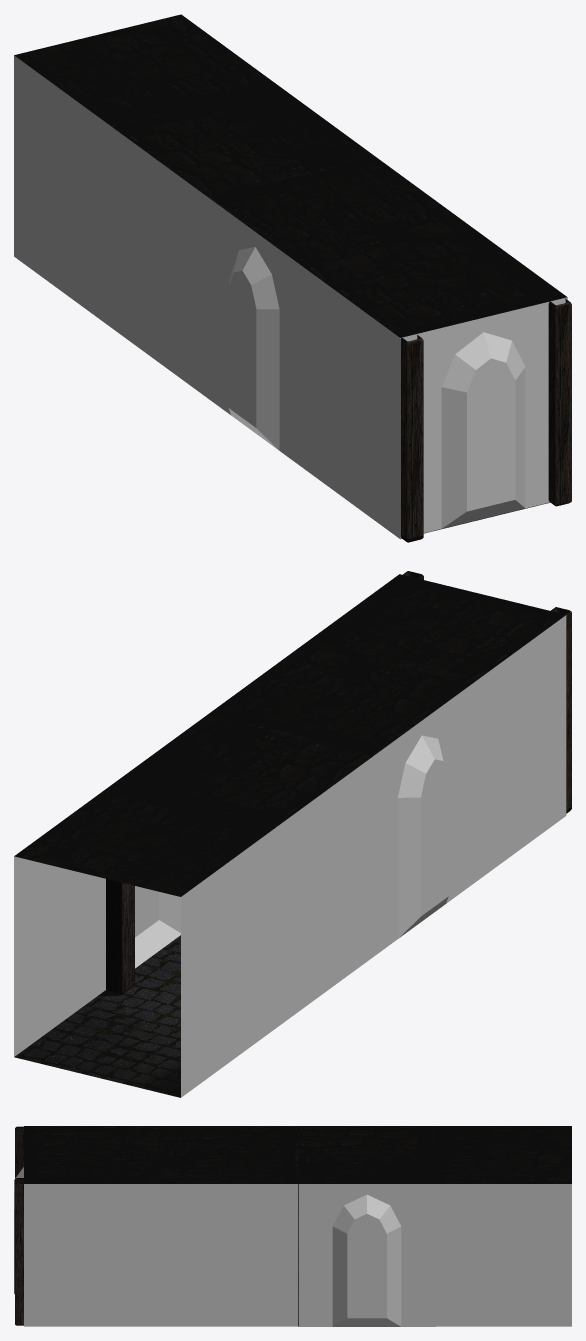
Rendered from corredor01.fbx.
3 renders of one model, top to bottom at view 1: azimuth 30°, elevation 25°; view 2: azimuth 150°, elevation 25°; view 3: azimuth 270°, elevation 25°, orthographic. The views are drawn at different scales.
Parts seen in each view (by area): view 1: castle_wall01, castle_ceiling01, castle_beam01; view 2: castle_wall01, castle_ceiling01, castle_floor01, castle_beam01; view 3: castle_wall01, castle_ceiling01, castle_beam01.
Boxes of the visible parts, bbox=[...] form: castle_wall01: bbox=[14, 55, 567, 538]; castle_ceiling01: bbox=[14, 14, 567, 337]; castle_beam01: bbox=[400, 298, 571, 542]; castle_wall01: bbox=[14, 615, 566, 1097]; castle_ceiling01: bbox=[14, 574, 565, 896]; castle_floor01: bbox=[14, 935, 180, 1097]; castle_beam01: bbox=[106, 571, 571, 994]; castle_wall01: bbox=[14, 1167, 571, 1326]; castle_ceiling01: bbox=[24, 1126, 571, 1183]; castle_beam01: bbox=[15, 1126, 298, 1325].
Size of the model in its own units: 231 by 230 by 815.
